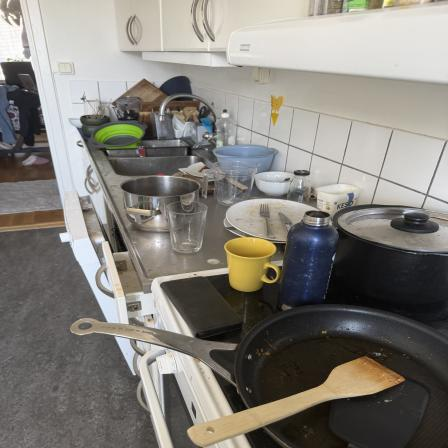blue_bottle: (285, 210, 336, 310)
phone: (161, 275, 244, 337)
yellow_cup: (227, 236, 282, 294)
